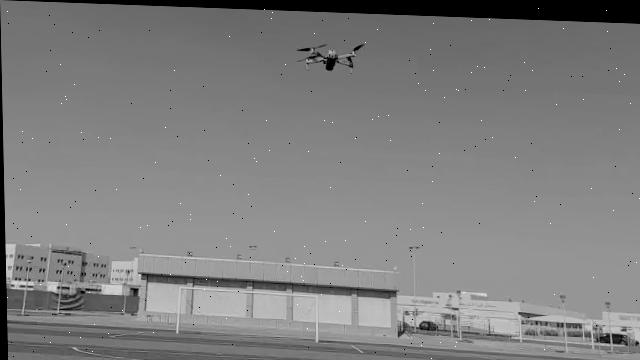drone: (289, 34, 368, 79)
